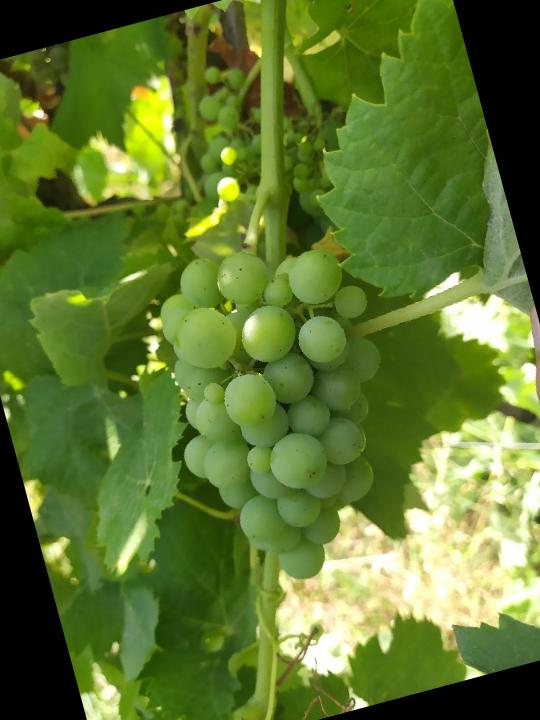grape: (132, 216, 435, 605)
